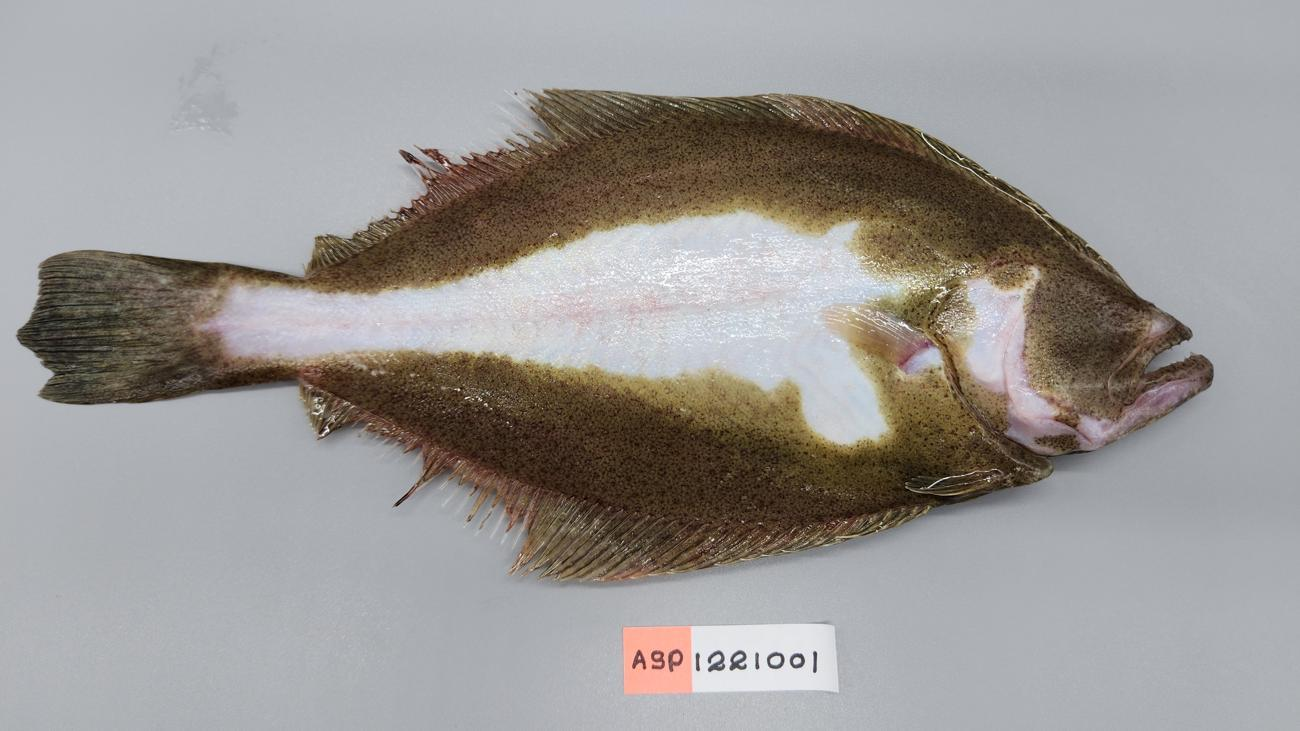SPDYH: (296, 362, 581, 493)
SPFCH: (39, 267, 214, 403)
SPOUY: (9, 70, 1236, 596)
